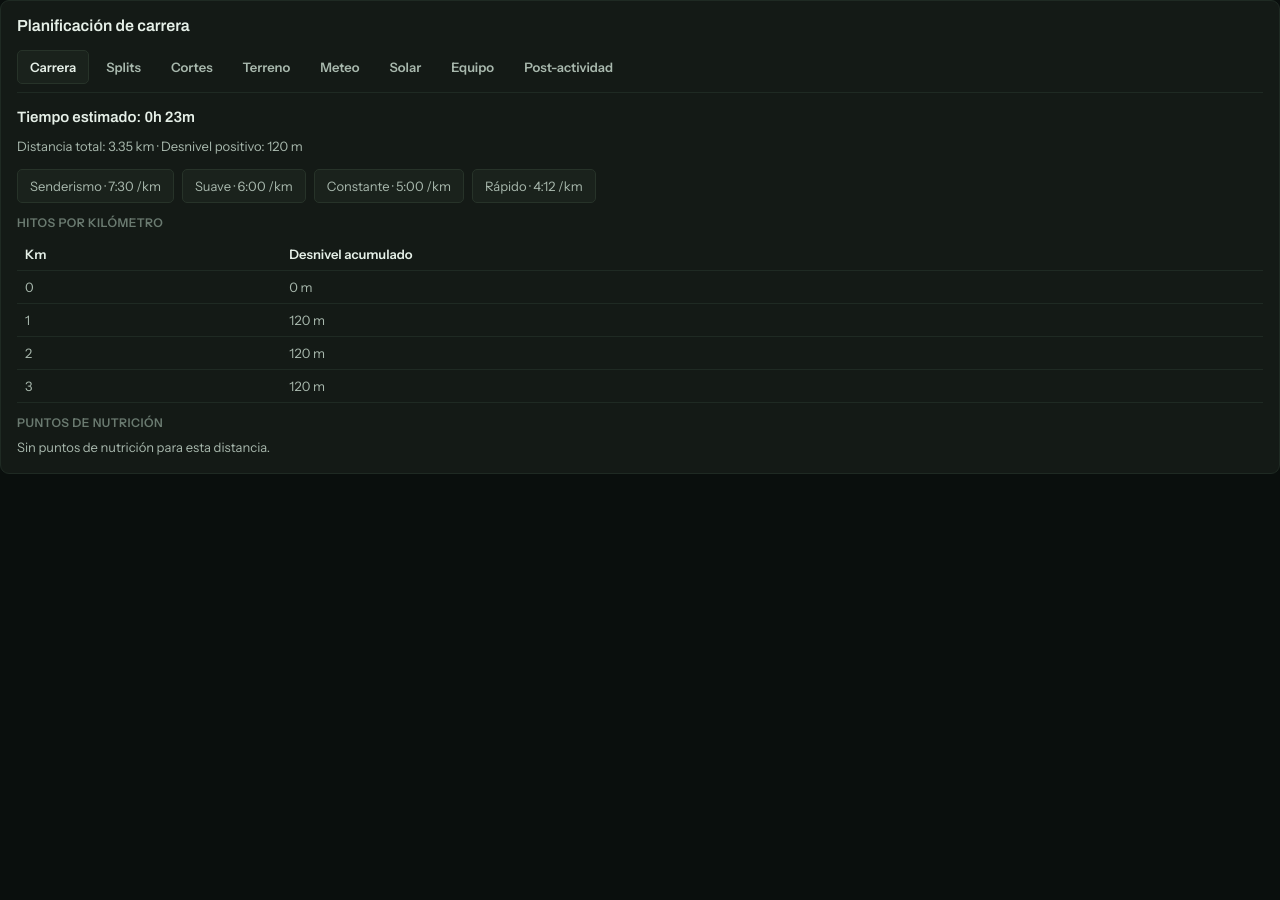
Test: RacePlanSection › does not request terrain until the button is clicked, then renders a segment
What coordinates should you click on to do the following:
click the tab "Terreno"
I would click on:
 (266, 67)
Its box is [230,50,303,84].
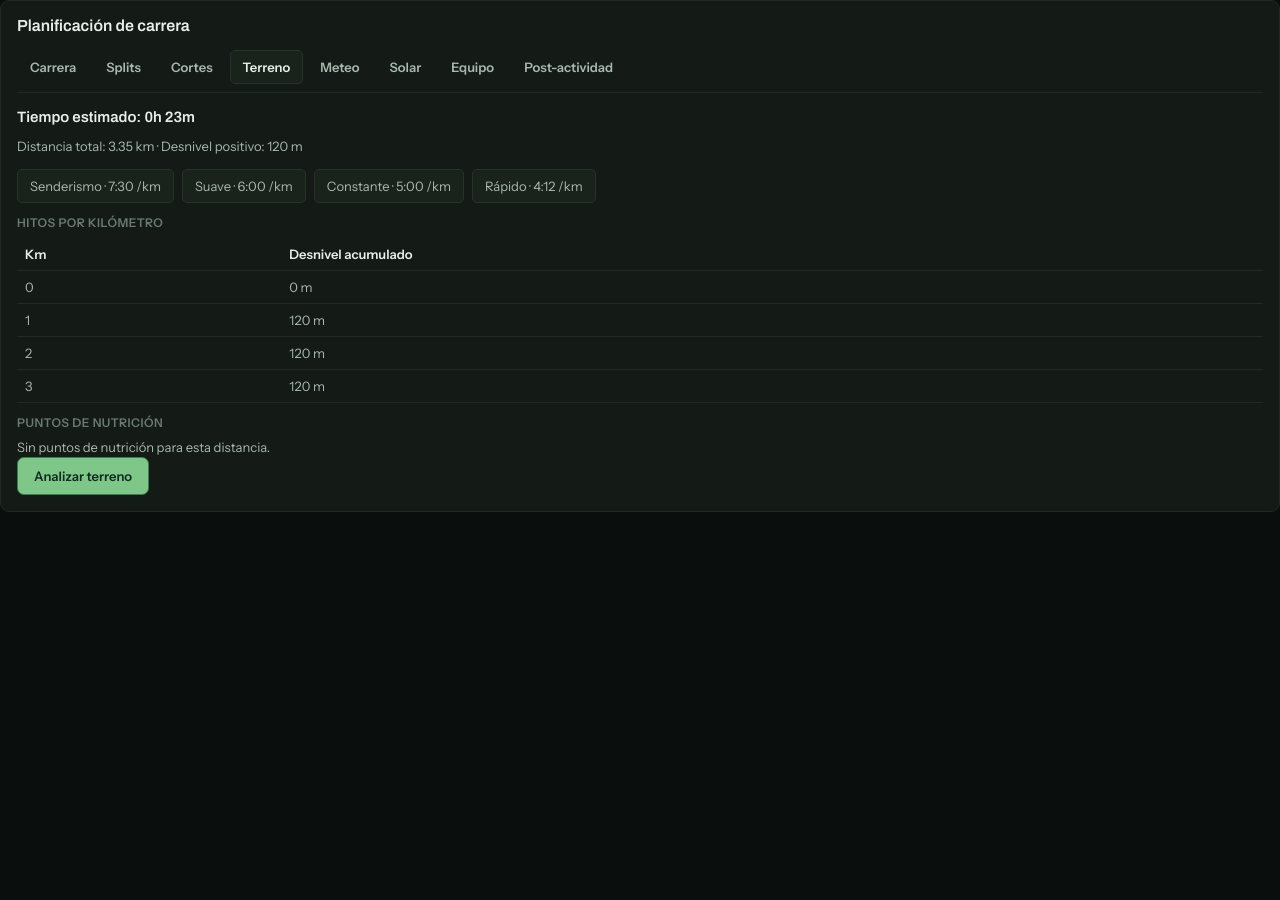
What coordinates should you click on to do the following:
click the button "Analizar terreno"
I would click on:
 (83, 476)
Its box is [17,457,149,495].
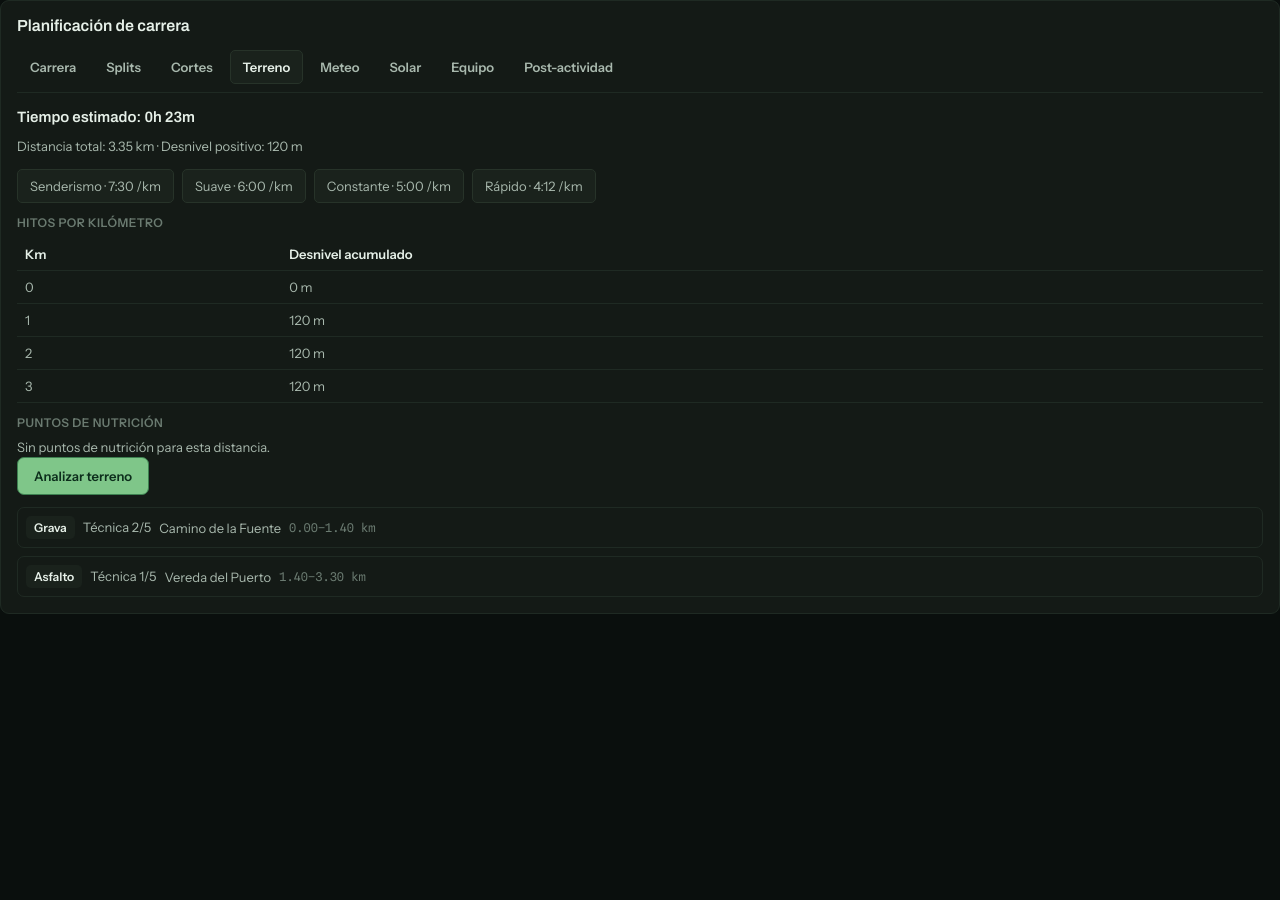
Now the text "Camino de la Fuente" is shown, box [159,520,281,536]
Now the text "Grava" is shown, box [26,516,75,539]
Now the text "Técnica 2/5" is shown, box [83,518,151,537]
